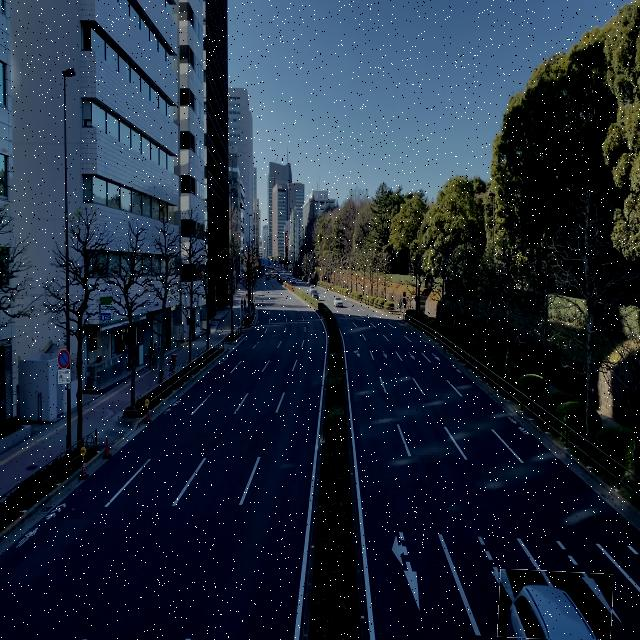Car: (498, 570, 612, 640)
